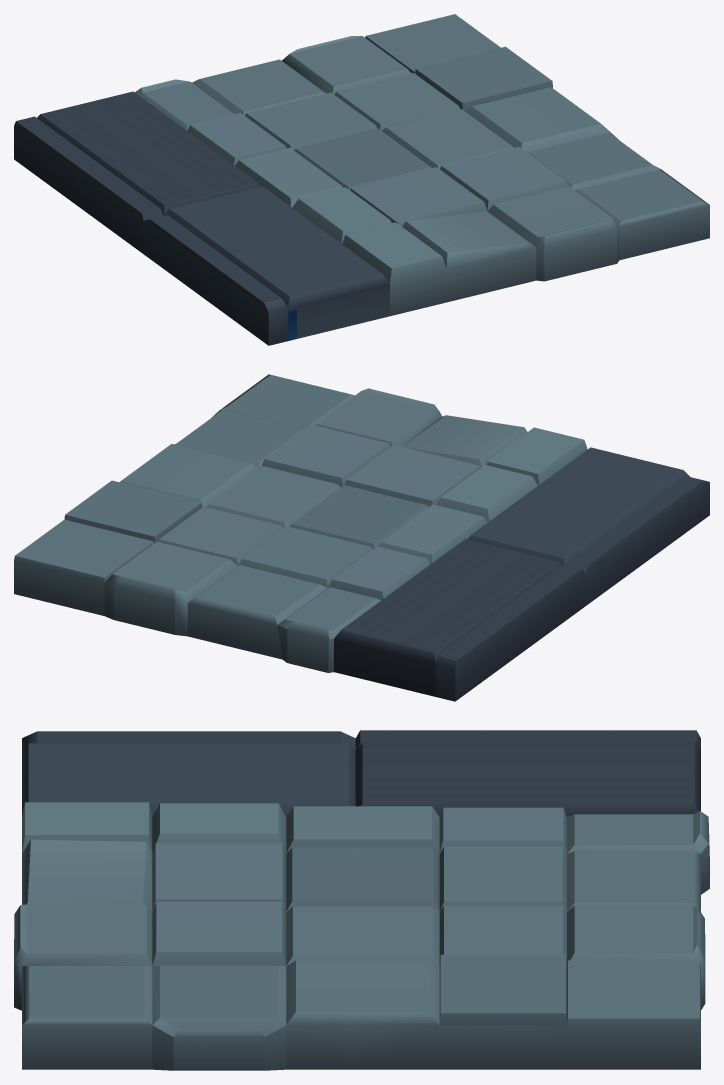
The model's file is Modular_Dungeon_Tile_Uniform_Side.fbx.
3 renders of one model, top to bottom at view 1: azimuth 30°, elevation 25°; view 2: azimuth 150°, elevation 25°; view 3: azimuth 270°, elevation 25°, orthographic. The views are drawn at different scales.
Visible parts, largest first — view 1: Tile_Uniform_Side; view 2: Tile_Uniform_Side; view 3: Tile_Uniform_Side.
Part boxes in pixels (bbox=[...]): Tile_Uniform_Side: bbox=[14, 14, 709, 345]; Tile_Uniform_Side: bbox=[14, 374, 709, 701]; Tile_Uniform_Side: bbox=[14, 730, 709, 1070].
Bounding box in the file's own units: 6.36 × 0.6275 × 6.44.
Materials: 1 (1 with a texture image).
